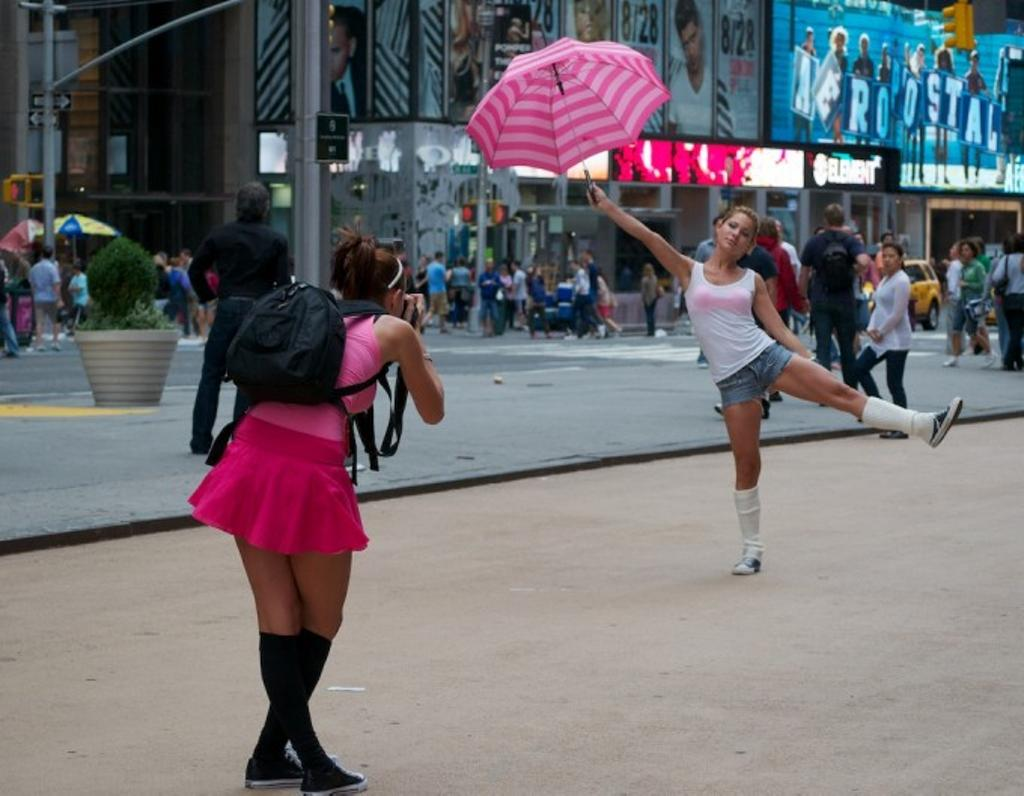face: (317, 26, 349, 80), (719, 212, 754, 252), (576, 3, 604, 40), (681, 22, 699, 70), (882, 247, 898, 270), (961, 245, 971, 260), (882, 234, 894, 245), (949, 243, 959, 256), (939, 52, 948, 66), (969, 56, 977, 71), (836, 35, 843, 49), (860, 39, 866, 50)
